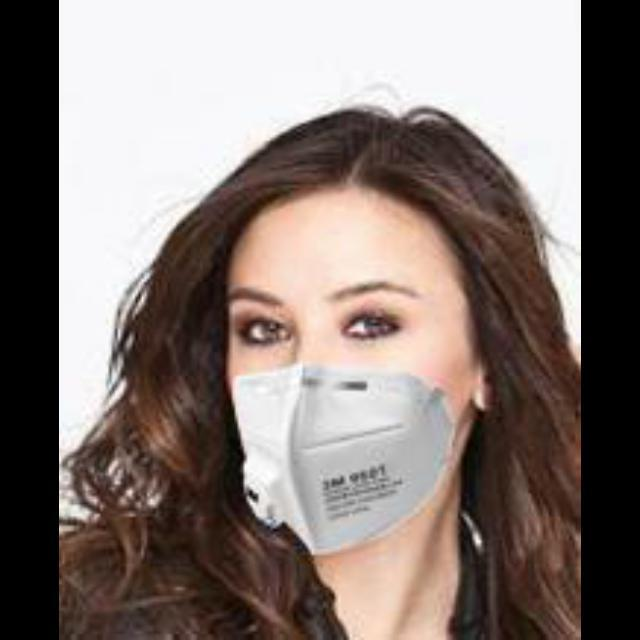suspicion: (198, 188, 474, 572)
